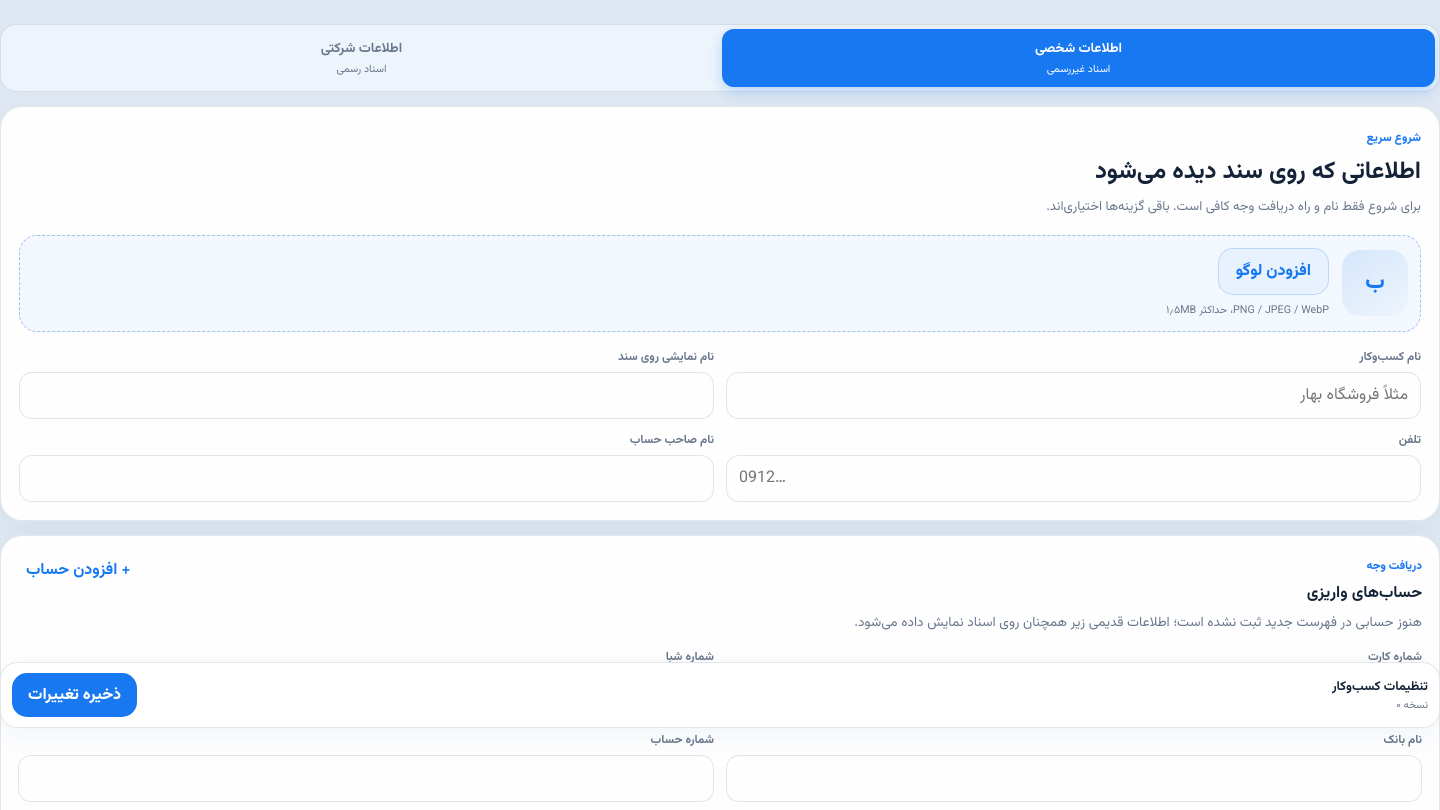
Test: G03 SettingsPage › shows personal and company settings in separate selectable views
This screenshot has width=1440, height=810.
expect the heading "اطلاعاتی که روی سند دیده می‌شود" is shown: met, box [1095,153,1421,191]
expect the field labelled "نام شرکت *" is not shown: met
Click the tab "اطلاعات شرکتی اسناد رسمی" at x=362, y=58, box [5,29,718,87]
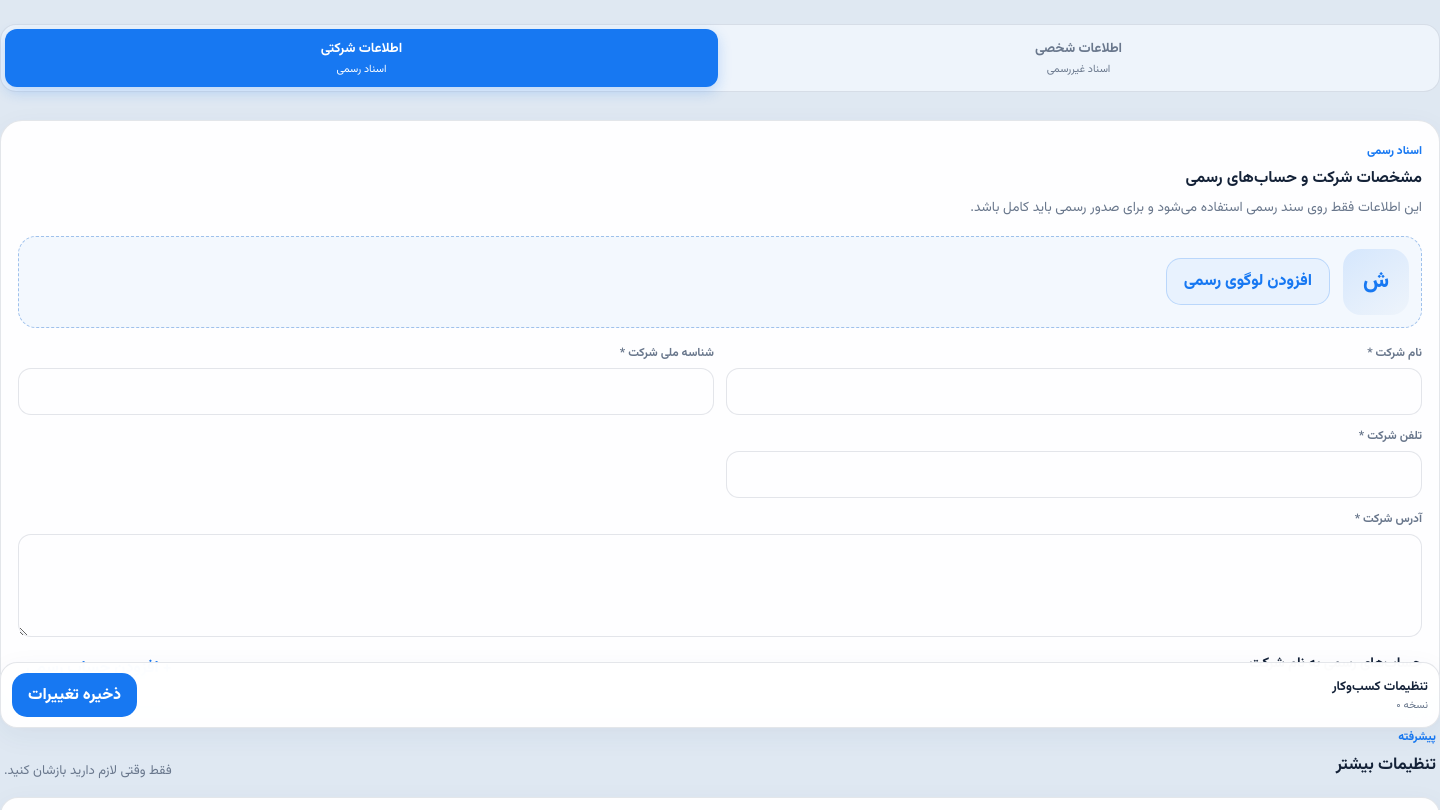
expect the field labelled "نام شرکت *" is shown: met, box [726,368,1422,415]
expect the text labelled "نام کسب‌وکار" is gone: met
Click the tab "اطلاعات شخصی اسناد غیررسمی" at x=1078, y=58, box [722,29,1435,87]
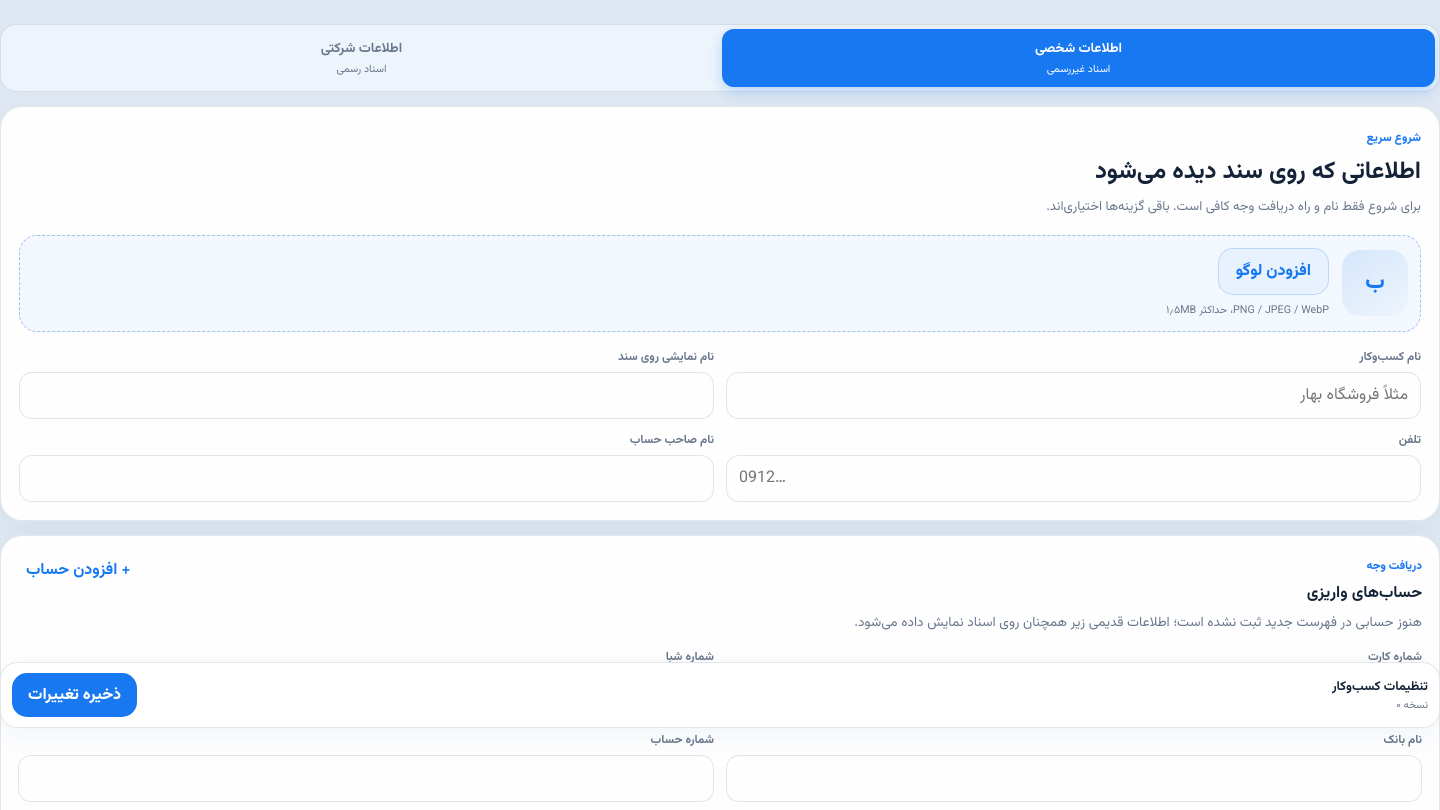
expect the field labelled "نام کسب‌وکار" is shown: met, box [726,372,1421,419]
expect the text labelled "نام شرکت *" is gone: met
